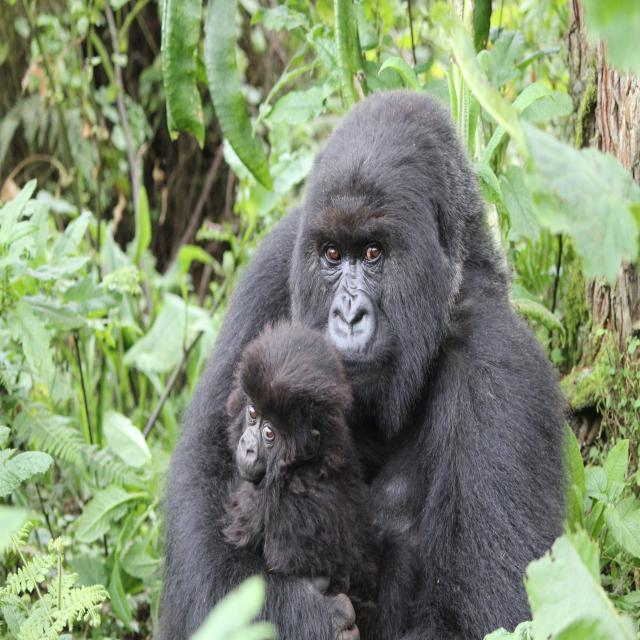Gorilla: (153, 83, 595, 636), (215, 319, 439, 635)
